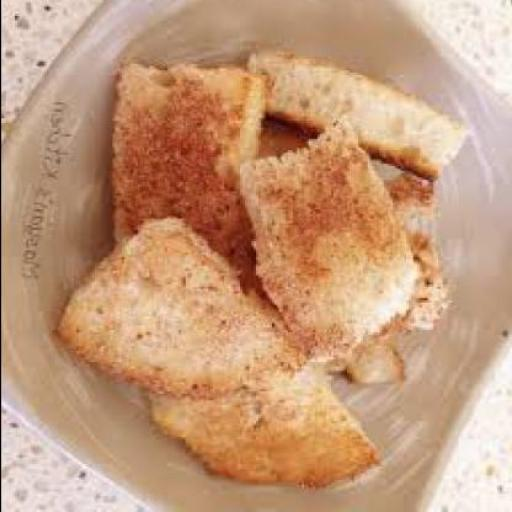biodegradable: (54, 219, 305, 403), (239, 123, 426, 364), (109, 61, 271, 298), (246, 46, 473, 182), (144, 369, 384, 489), (407, 236, 453, 335), (351, 343, 405, 389), (384, 173, 438, 218)
